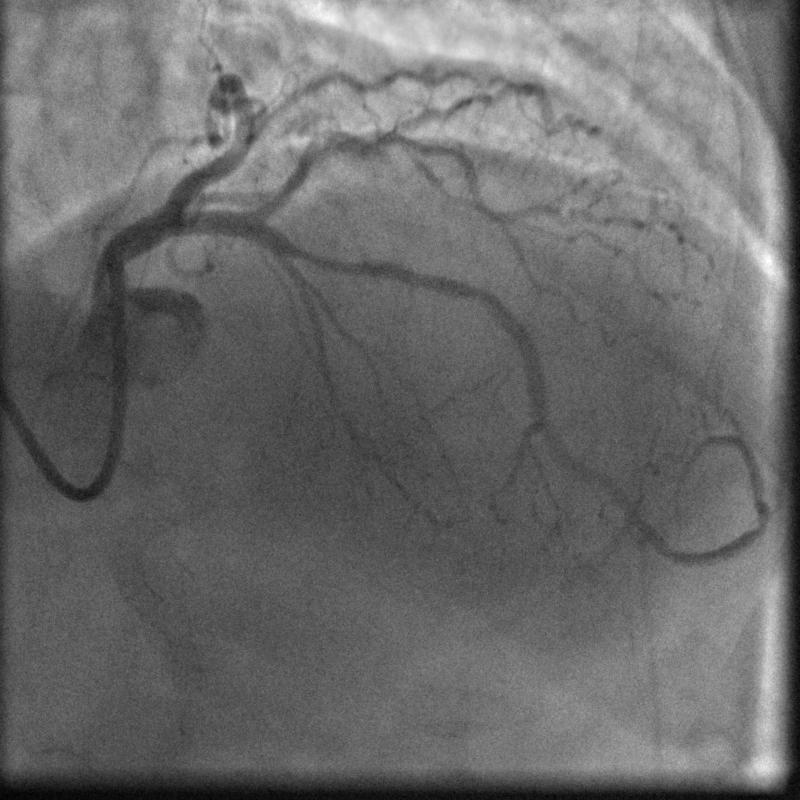Stenosis: (299, 238, 355, 280)
